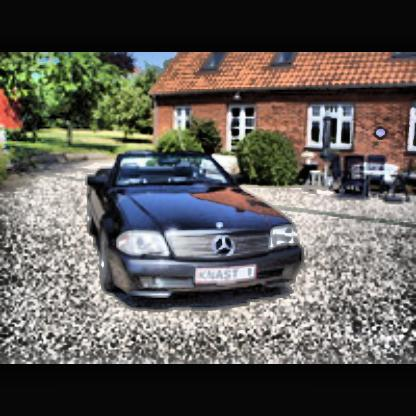Mercedes-Benz 300-Class Convertible 1993: (82, 142, 308, 312)
